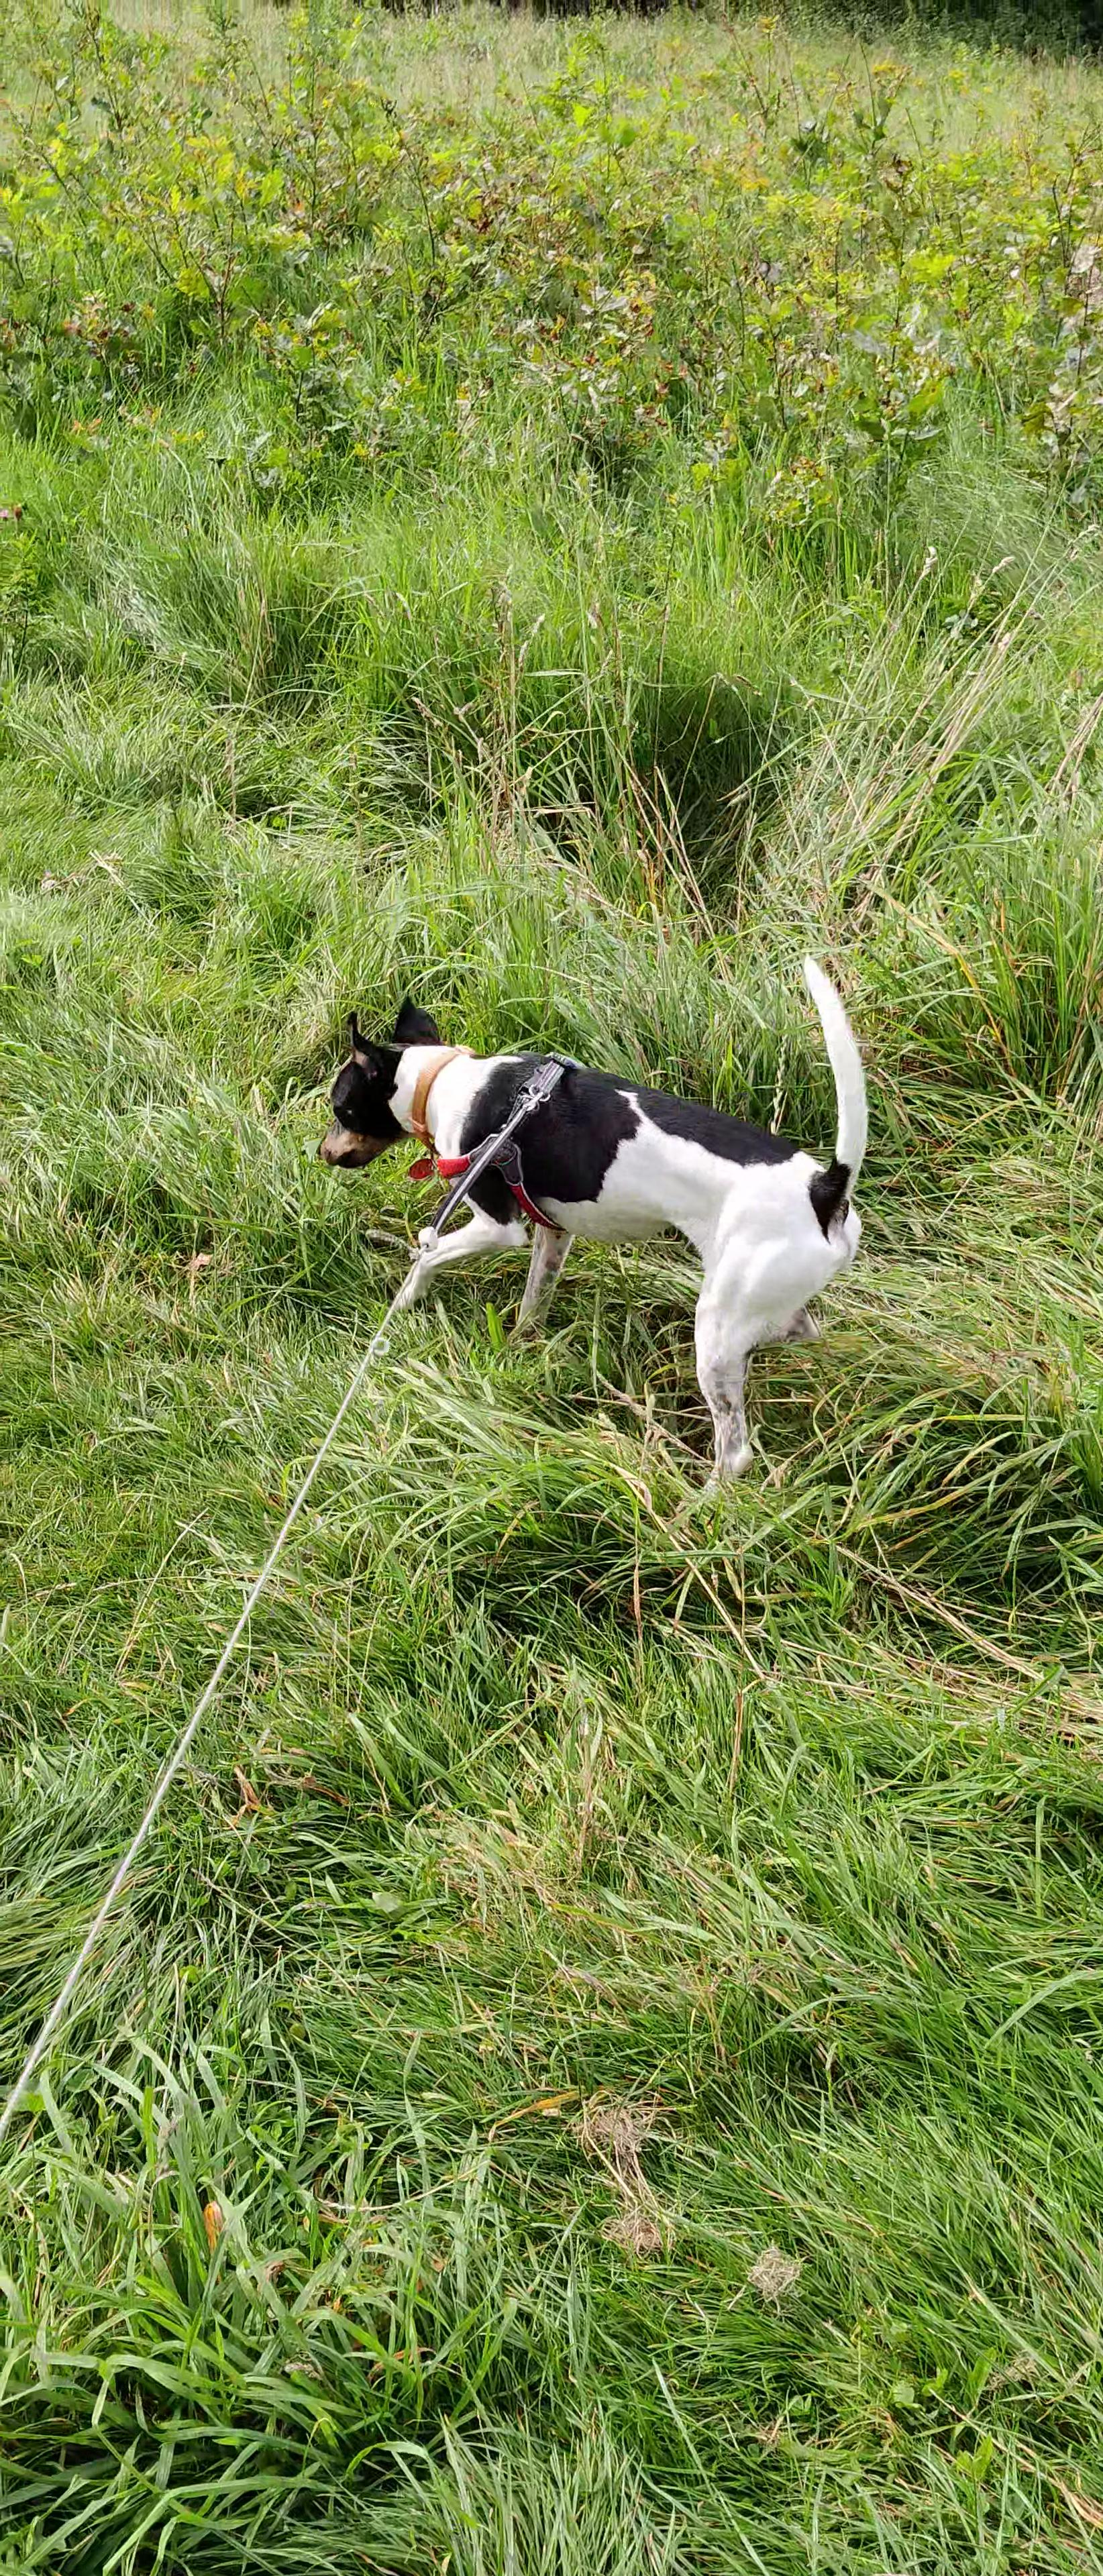Dog: (299, 904, 886, 1505)
